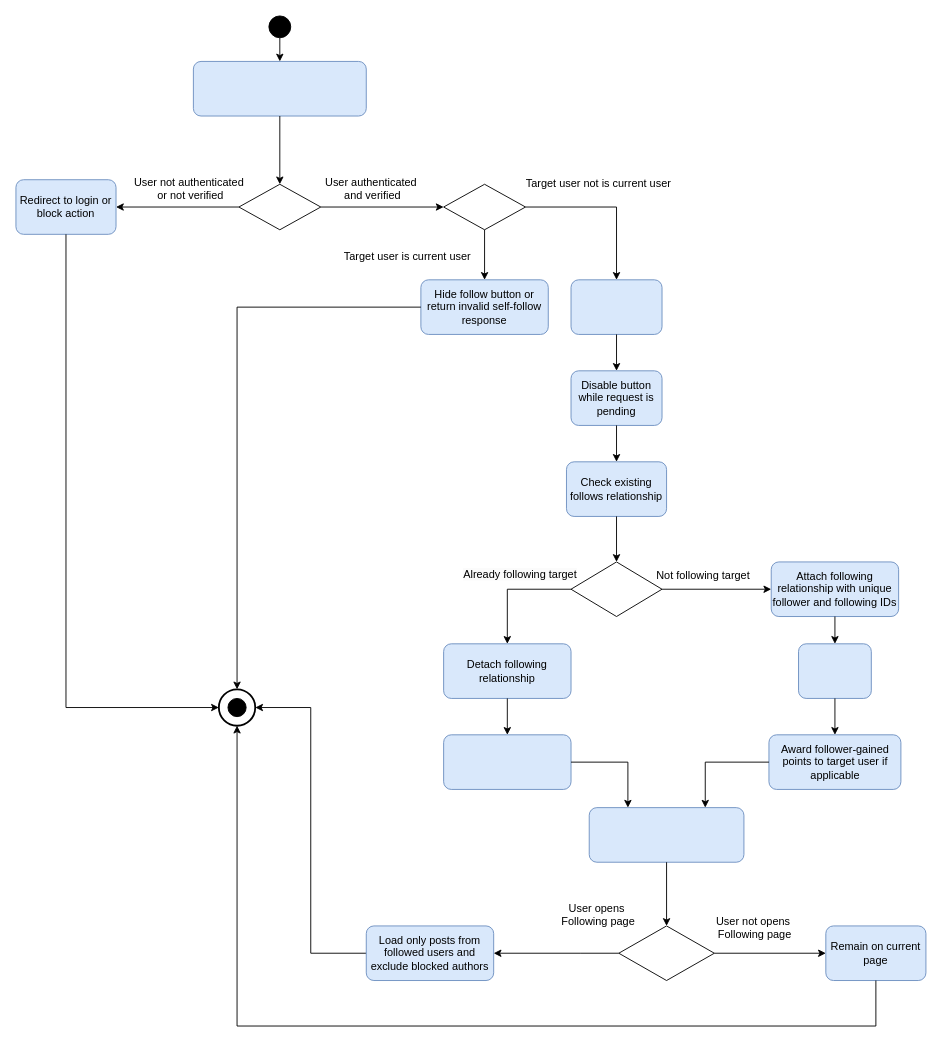
Some shapes in this 942 by 1049 pixel diagram are drawn without their labels. Here are the shapes that lost their labels. From the top down, the centre of each, then its label:
pixel 279 88: User views another user's profile, post card, or post author header
pixel 616 306: User clicks follow button
pixel 834 670: Return status: followed
pixel 507 761: Return status: unfollowed
pixel 666 834: Update button state and follower/following counts
